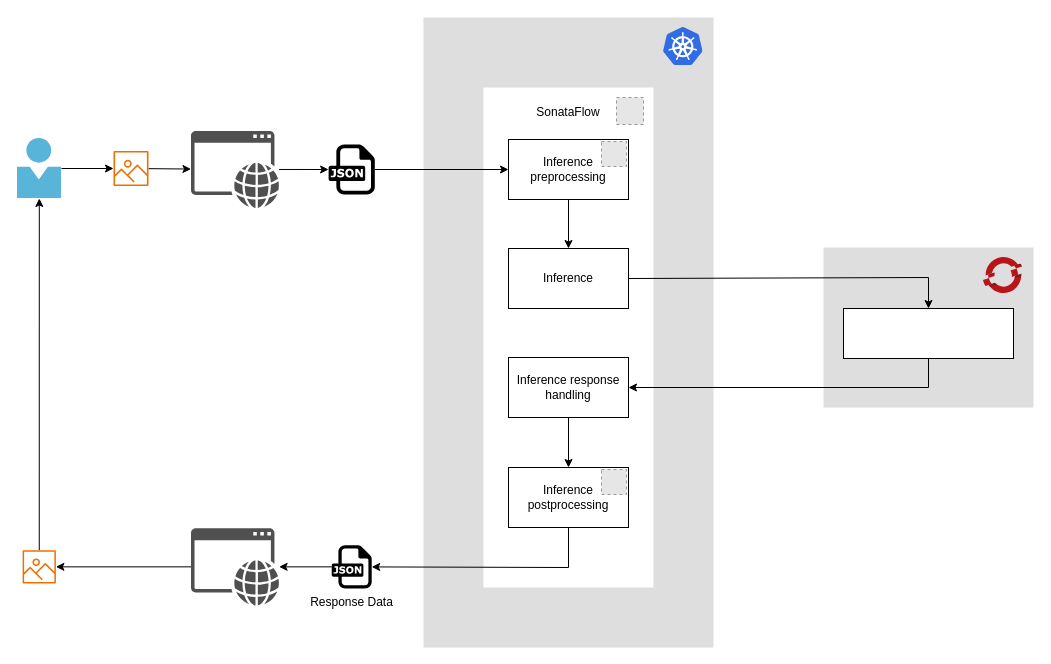
Image size: 1051x664. Some labels were removed from this diagram. Grey dashed boxes stand in for pictures. Here are the shapes that lost their labels. From the top down, the centre of each, then its label:
At pixel 351 169: "Request Data".
At pixel 928 333: "Inference Model".
